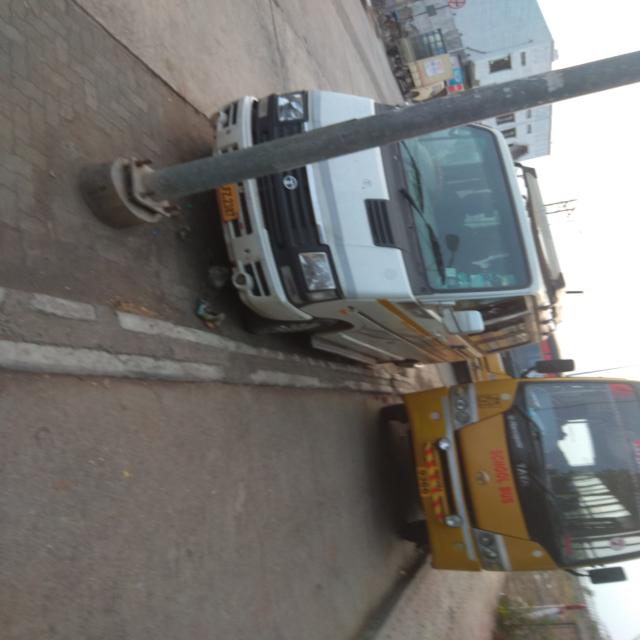Bus: (382, 360, 640, 571), (587, 568, 625, 584)
